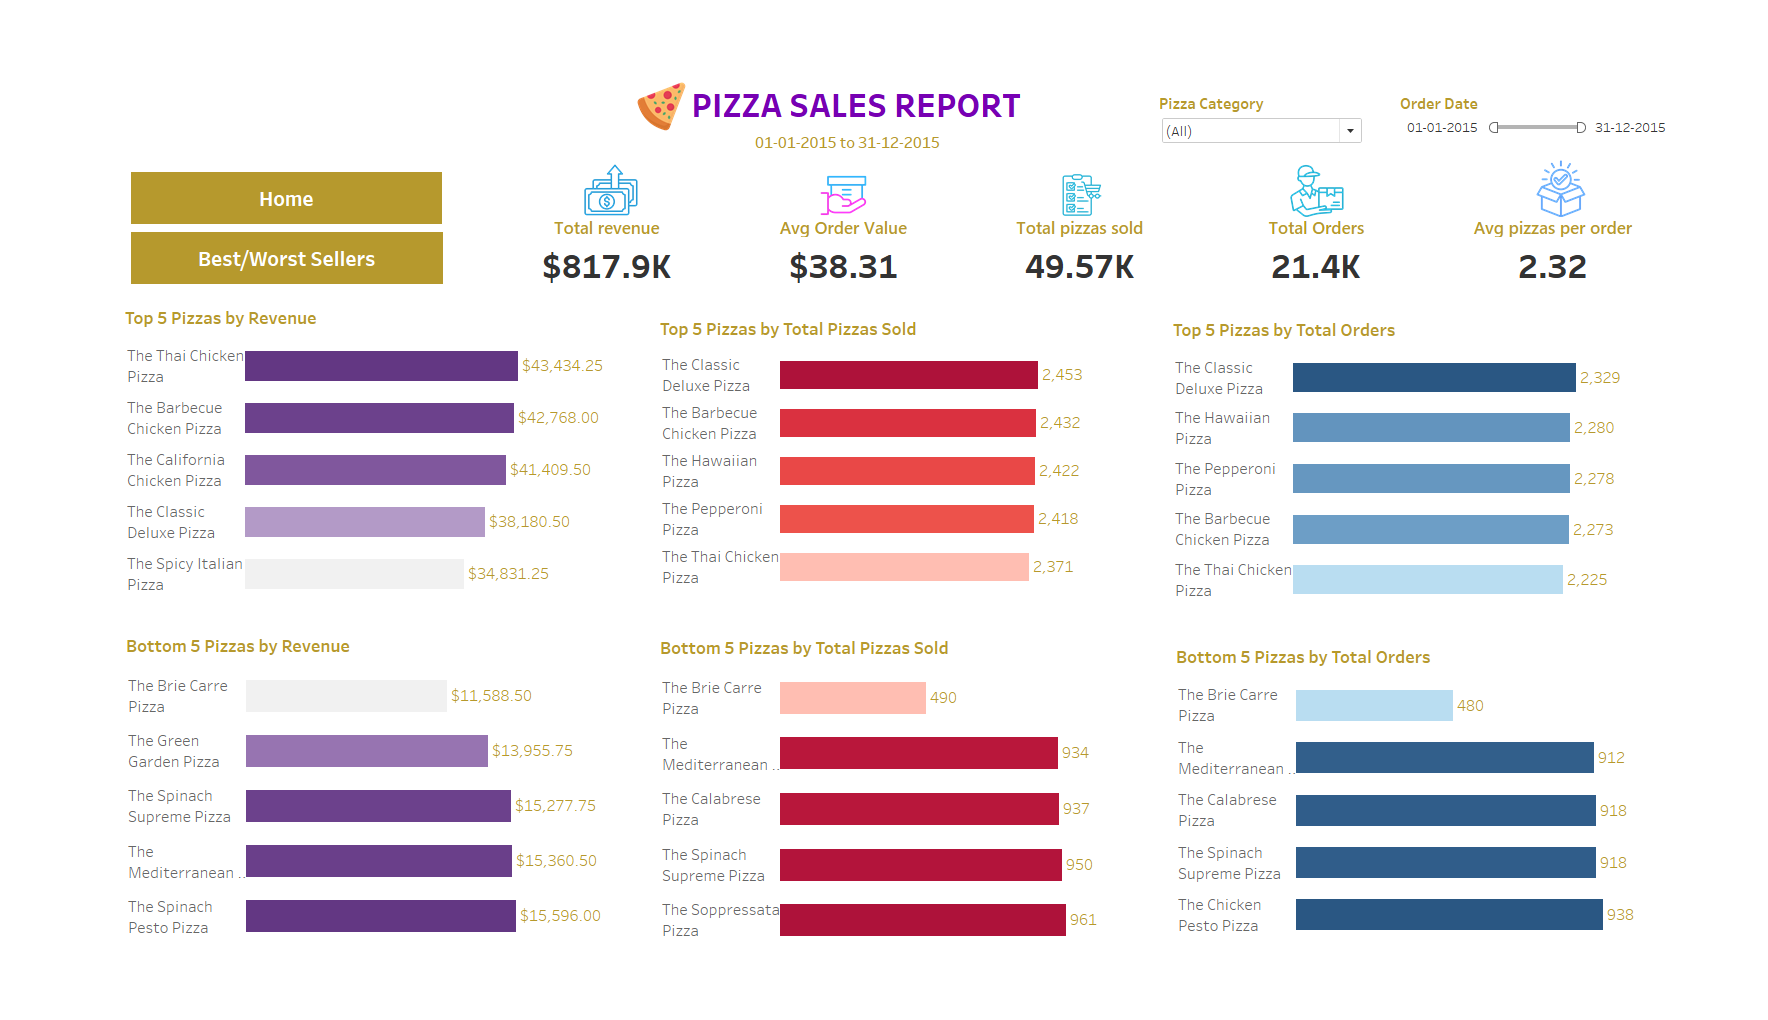

The page's visual inventory and layout, read from the dashboard file:
{"tool":"tableau","page":{"name":"Best/Worst Seller","canvas":[1600,900],"ordinal":0},"visuals":[{"type":"text","box":[608,7,346,52]},{"type":"image","param":"C:/Users/91969/Downloads/pizza-slice-tableau.png","box":[556,10,52,50]},{"type":"filter","title":"Date Range","param":"[federated.1qetb7y0gb5qkl1flxrbk0yb08a5].[none:pizza_category:nk]","box":[1079,22,206,65]},{"type":"filter","title":"Date Range","param":"[federated.1qetb7y0gb5qkl1flxrbk0yb08a5].[none:order_date:qk]","box":[1320,22,275,65]},{"type":"worksheet","title":"Date Range","mark":"Automatic","box":[597,52,341,40]},{"type":"image","param":"C:/Users/91969/Downloads/profit-growth-tableau.png","box":[500,88,77,61]},{"type":"image","param":"C:/Users/91969/Downloads/order-tableau.png","box":[1452,89,65,57]},{"type":"image","param":"C:/Users/91969/Downloads/delivery-man-tableau.png","box":[1209,92,62,55]},{"type":"image","param":"C:/Users/91969/Downloads/shipping-box-tableau.png","box":[737,98,57,52]},{"type":"dashboard-object","box":[51,101,311,52]},{"type":"image","param":"C:/Users/91969/Downloads/order-delivery-tableau.png","box":[980,102,43,44]},{"type":"worksheet","title":"KPI Banner","mark":"Automatic","box":[409,146,1182,77]},{"type":"dashboard-object","box":[51,161,312,52]},{"type":"worksheet","title":"Top 5 Pizzas by Revenue","mark":"Automatic","rows":["pizza_name"],"cols":["Calculation_1508424467143917568"],"box":[41,230,500,299]},{"type":"worksheet","title":"Top 5 Pizzas by Total Pizzas Sold","mark":"Automatic","rows":["pizza_name"],"cols":["Calculation_1508424467144732675"],"box":[576,241,444,279]},{"type":"worksheet","title":"Top 5 Pizzas by Total Orders","mark":"Automatic","rows":["pizza_name"],"cols":["Calculation_1508424467144409089"],"box":[1089,242,470,292]},{"type":"worksheet","title":"Bottom 5 Pizzas by Revenue","mark":"Automatic","rows":["pizza_name"],"cols":["Calculation_1508424467143917568"],"box":[42,558,497,315]},{"type":"worksheet","title":"Bottom 5 Pizzas by Total Pizzas Sold ","mark":"Automatic","rows":["pizza_name"],"cols":["Calculation_1508424467144732675"],"box":[576,560,459,317]},{"type":"worksheet","title":"Bottom 5 Pizzas by Total Orders","mark":"Automatic","rows":["pizza_name"],"cols":["Calculation_1508424467144409089"],"box":[1092,569,481,301]}]}

Visuals, with their boxes in screenshot pixels (x1, y1, x2, y2), scaled from the page's 1600x900 canvas onto the 1768x1020 screenshot:
text: crop(672, 8, 1054, 67)
image: crop(614, 11, 672, 68)
"Date Range" filter: crop(1192, 25, 1420, 99)
"Date Range" filter: crop(1459, 25, 1762, 99)
"Date Range" worksheet: crop(660, 59, 1036, 104)
image: crop(552, 100, 638, 169)
image: crop(1604, 101, 1676, 165)
image: crop(1336, 104, 1404, 167)
image: crop(814, 111, 877, 170)
dashboard-object: crop(56, 114, 400, 173)
image: crop(1083, 116, 1130, 165)
"KPI Banner" worksheet: crop(452, 165, 1758, 253)
dashboard-object: crop(56, 182, 401, 241)
"Top 5 Pizzas by Revenue" worksheet: crop(45, 261, 598, 600)
"Top 5 Pizzas by Total Pizzas Sold" worksheet: crop(636, 273, 1127, 589)
"Top 5 Pizzas by Total Orders" worksheet: crop(1203, 274, 1723, 605)
"Bottom 5 Pizzas by Revenue" worksheet: crop(46, 632, 596, 989)
"Bottom 5 Pizzas by Total Pizzas Sold " worksheet: crop(636, 635, 1144, 994)
"Bottom 5 Pizzas by Total Orders" worksheet: crop(1207, 645, 1738, 986)
